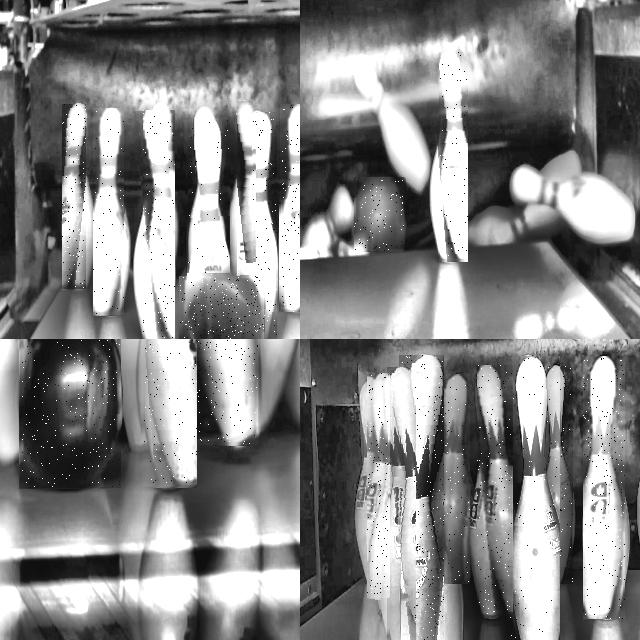bowling-ball: (22, 339, 120, 487), (180, 276, 262, 339), (354, 178, 404, 251)
bowling-pins: (510, 356, 559, 640), (401, 356, 443, 640), (583, 357, 625, 619), (240, 112, 277, 339), (187, 118, 229, 316), (477, 365, 509, 618), (144, 339, 197, 486), (143, 111, 175, 339), (389, 367, 414, 640), (543, 366, 573, 583), (93, 108, 124, 314), (197, 339, 257, 444), (439, 53, 468, 260), (444, 374, 469, 584), (354, 380, 378, 583), (367, 374, 387, 596), (62, 104, 86, 288), (282, 104, 300, 312), (237, 101, 253, 263)
